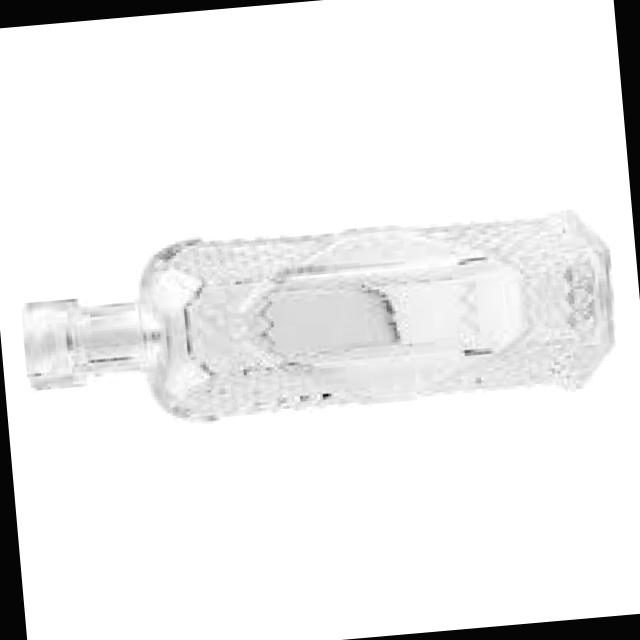bottle: (24, 212, 611, 418)
